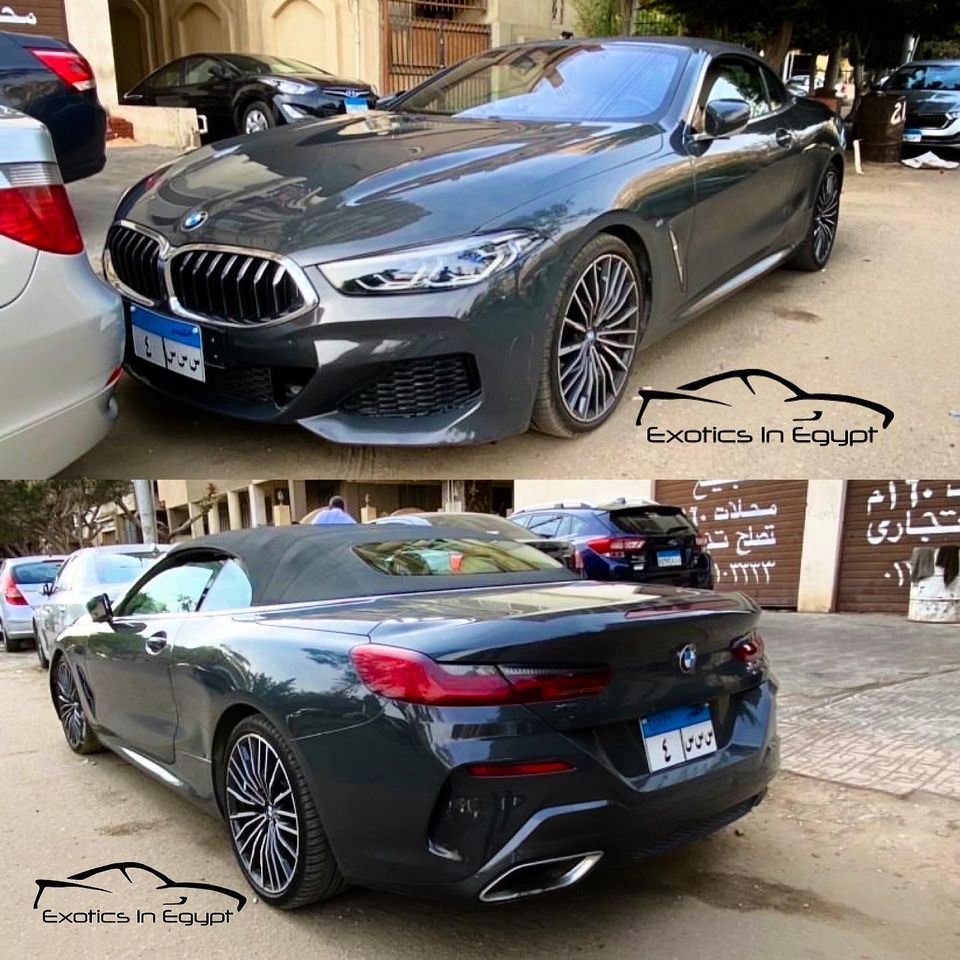carpl: (640, 706, 726, 774), (131, 316, 213, 383)
